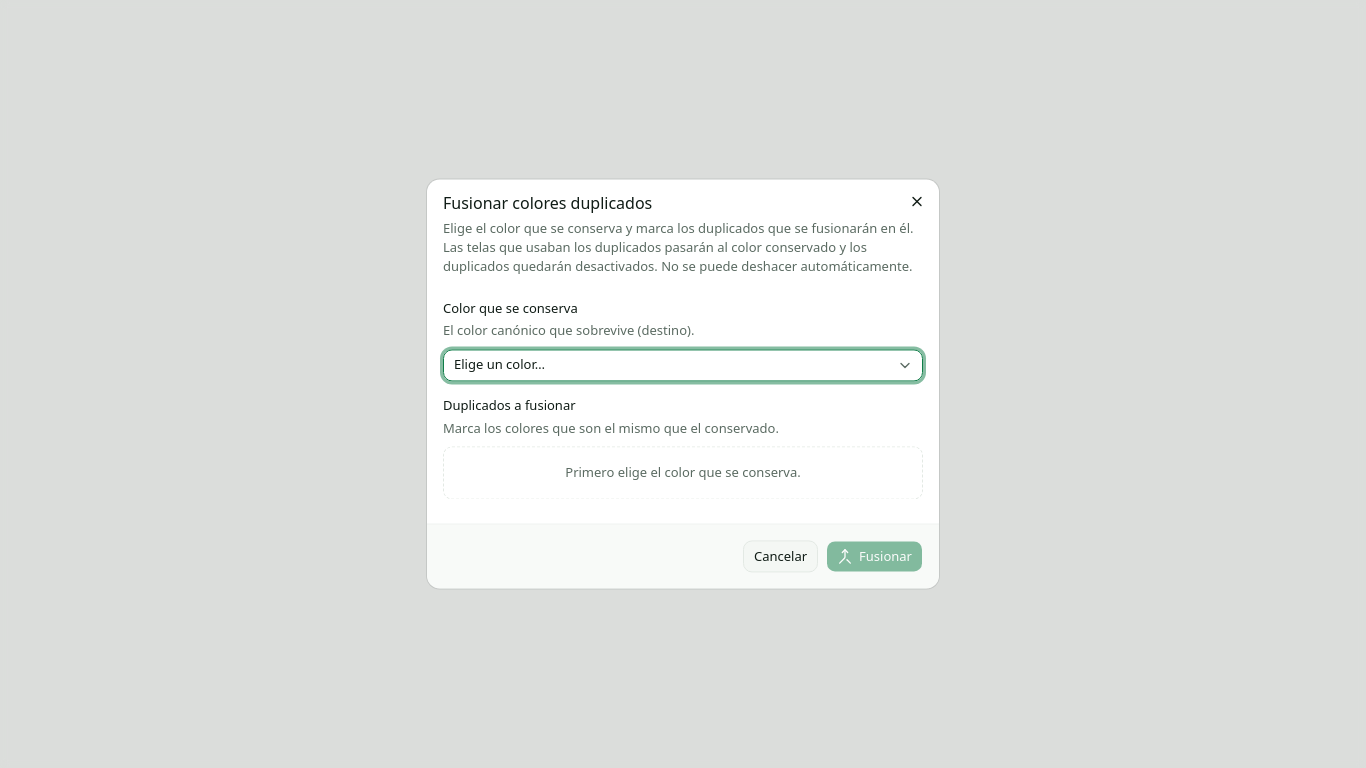
Scenario: <DialogoFusionColores> › filtra los candidatos por nombre
Select "Negro" in the dropdown with test id "fusion-destino": (683, 365) [443,349,923,381]
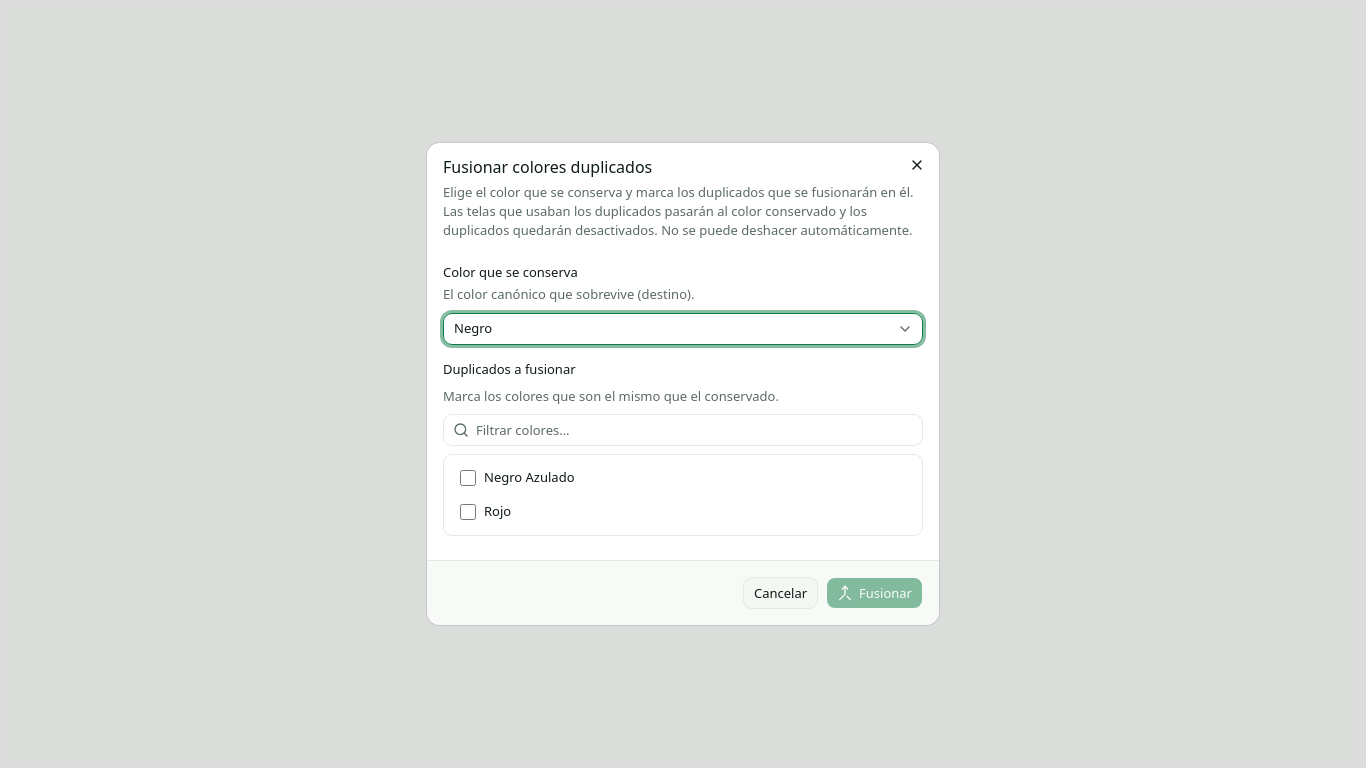
Check: the number of checkboxes is 2, box [460,470,476,486]; [460,504,476,520]
In the search field with test id "fusion-filtro": (683, 430) [443,414,923,446], type "rojo"
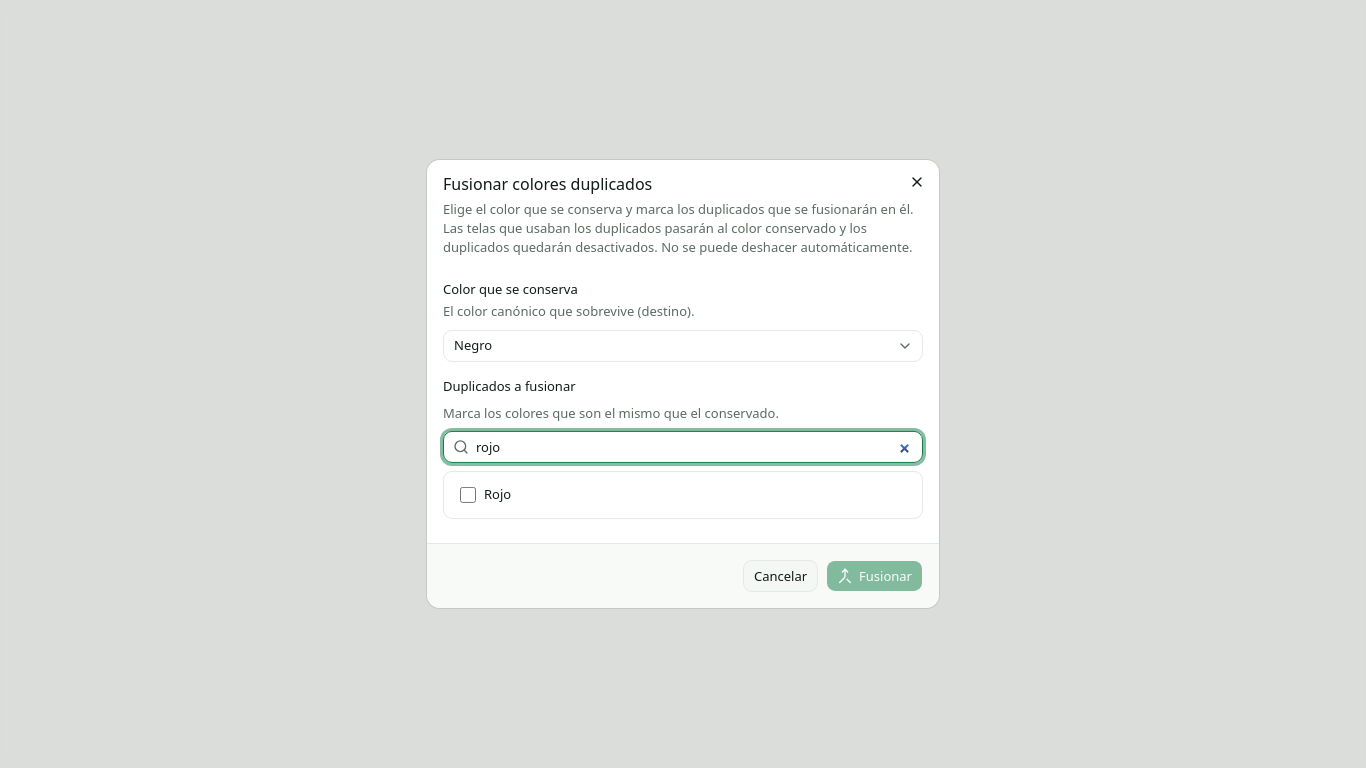
Check: the number of checkboxes is 1, box [460,487,476,503]
